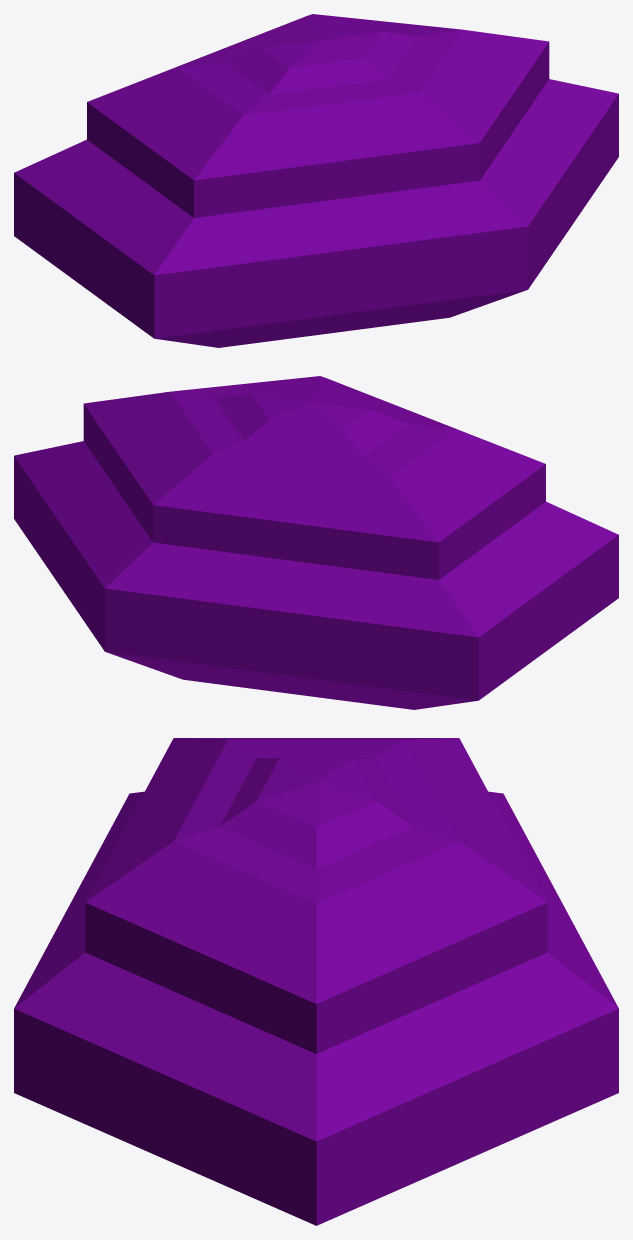
The model's file is magical_bush_purple.fbx.
3 renders of one model, top to bottom at view 1: azimuth 30°, elevation 25°; view 2: azimuth 150°, elevation 25°; view 3: azimuth 270°, elevation 25°, orthographic. The views are drawn at different scales.
Visible parts, largest first — view 1: pSphere1, pSphere3, pSphere4; view 2: pSphere1, pSphere3, pSphere4; view 3: pSphere1, pSphere3, pSphere4.
Boxes of the visible parts, x1,y1,x2,y2 form: pSphere1: (14, 79, 618, 347); pSphere3: (87, 14, 549, 217); pSphere4: (225, 25, 417, 94); pSphere1: (14, 441, 618, 709); pSphere3: (83, 376, 545, 579); pSphere4: (215, 387, 407, 456); pSphere1: (14, 791, 618, 1225); pSphere3: (85, 738, 547, 1053); pSphere4: (220, 758, 412, 868).
Size of the model in its own units: 7.71 by 3.3 by 5.66.
